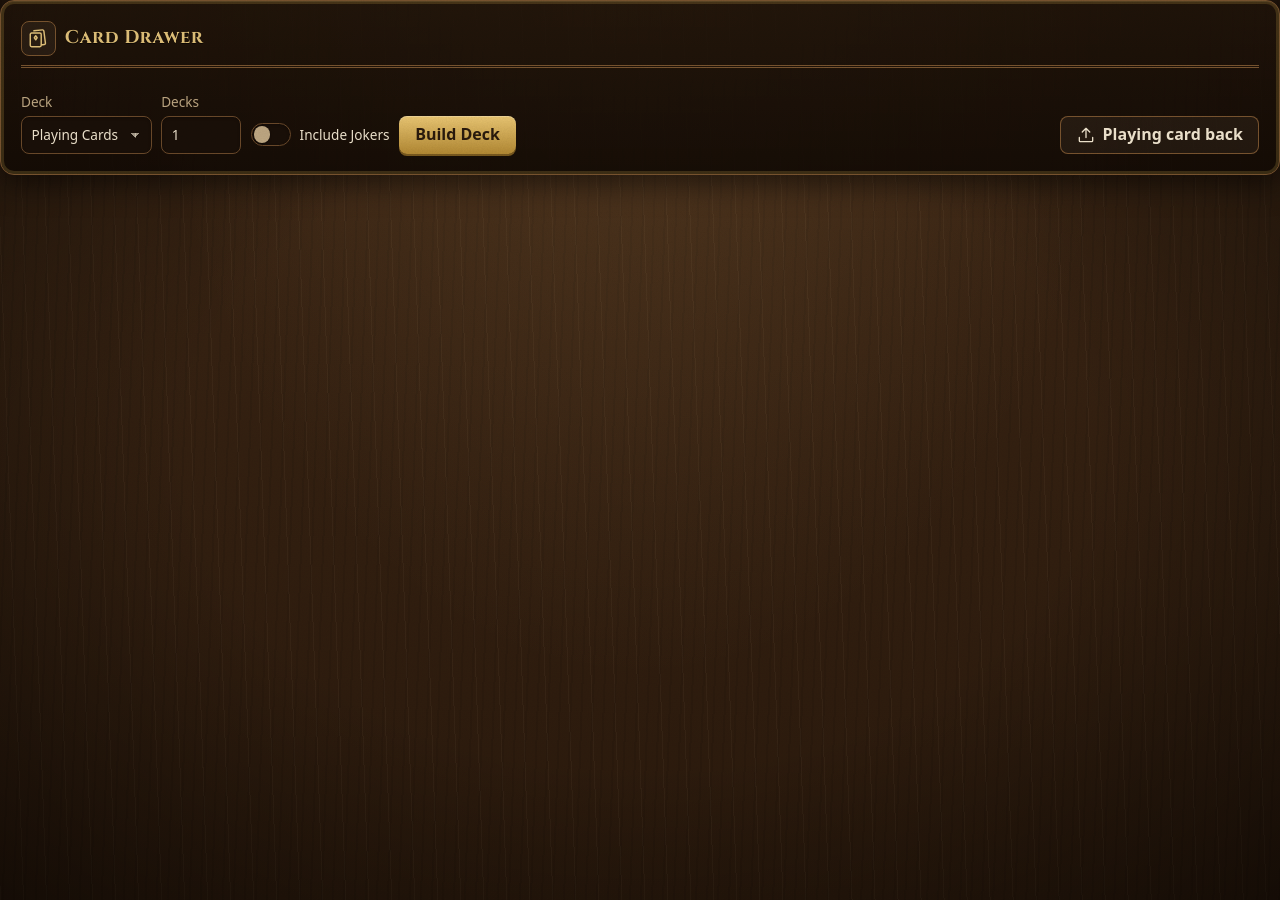
Test case: the card drawer › builds several decks with jokers, and thickens the deck to a limit
Click the switch labelled "Include Jokers" at (271, 135), box [251,124,291,146]
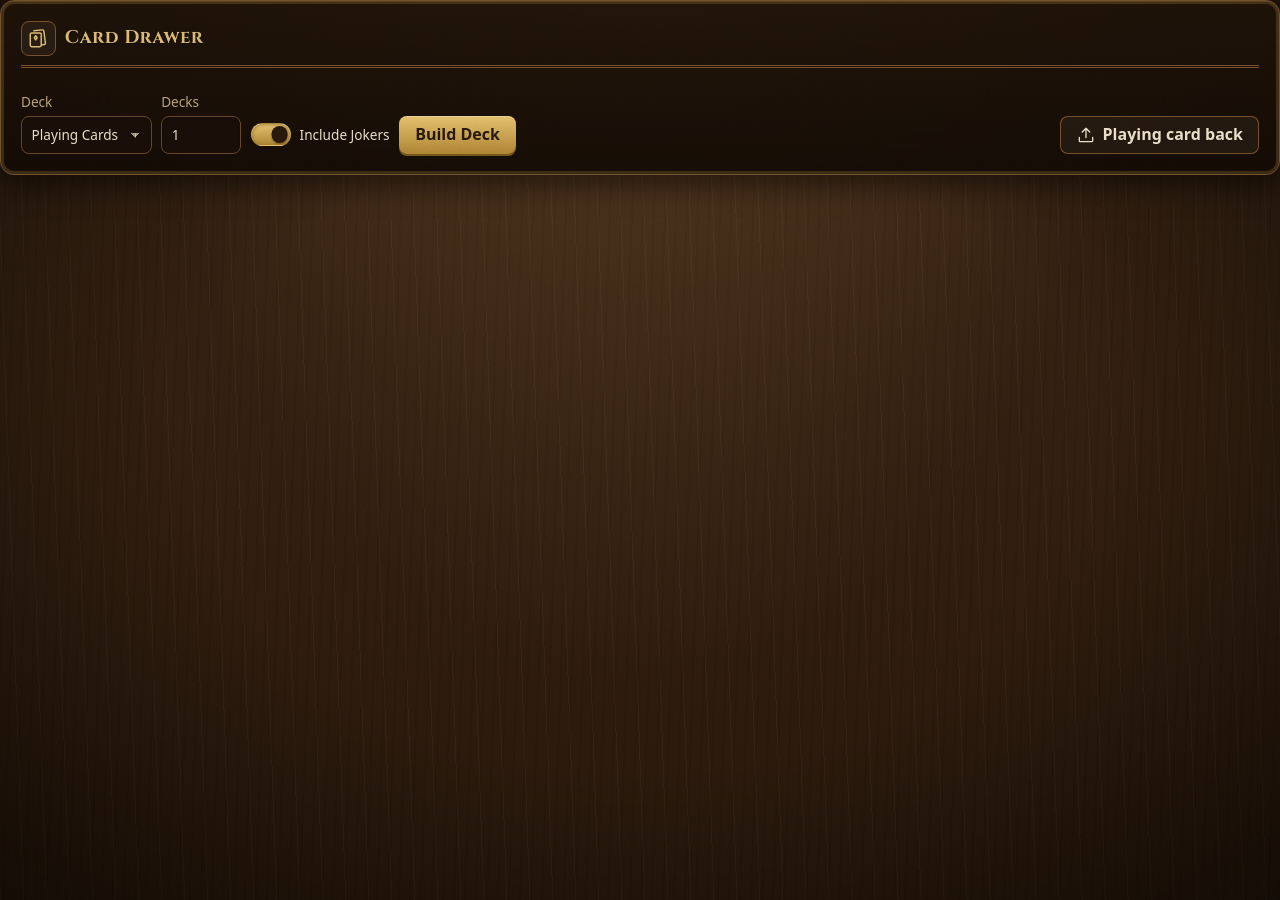
Replace the text in the number field labelled "Decks" with "3" at (201, 135), box [161,116,241,154]
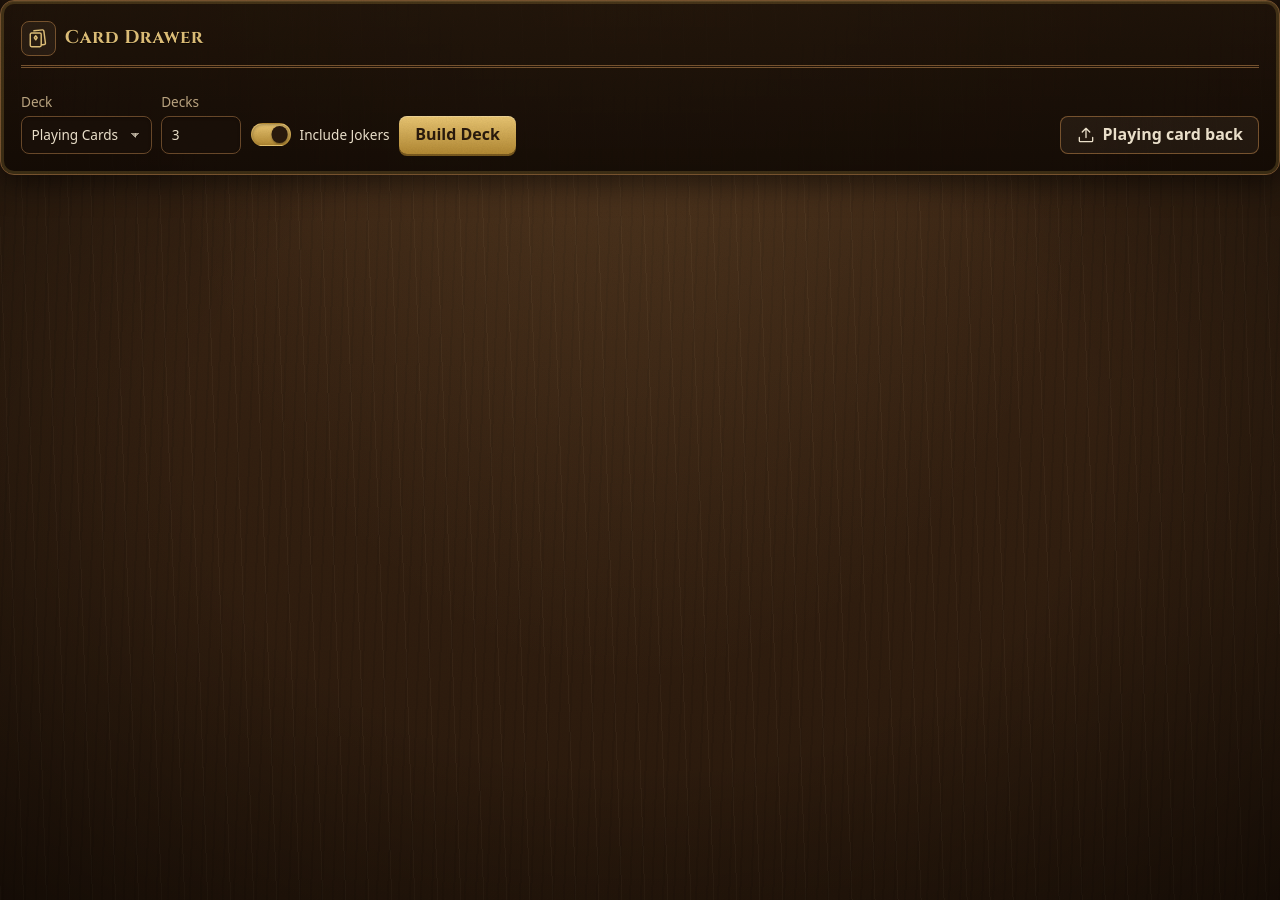
Click the button "Build Deck" at (458, 135), box [399,116,516,154]
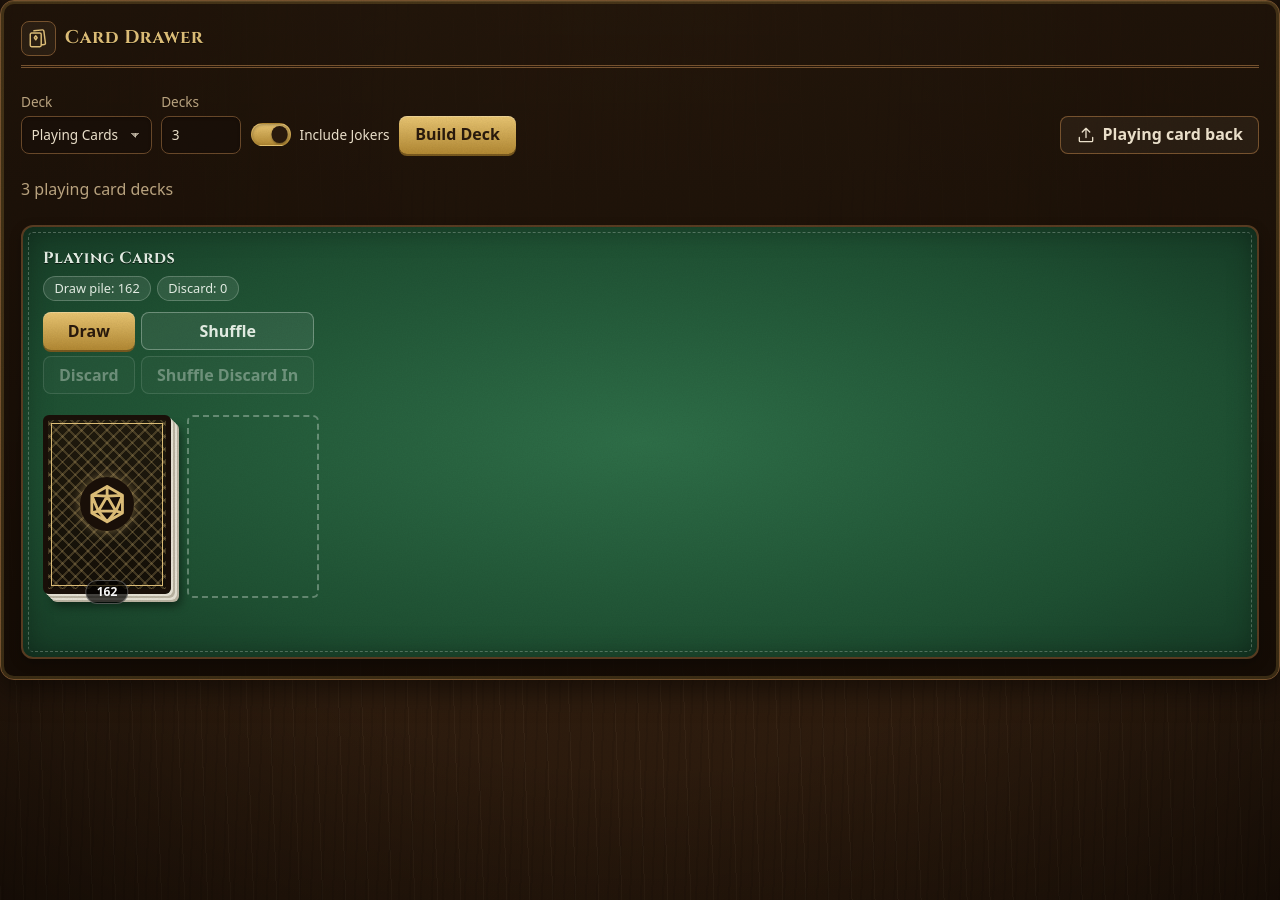
Check: the text "3 playing card decks" is shown, box [21,178,173,201]
Check: the text "Draw pile: 162" is shown, box [43,276,151,301]
